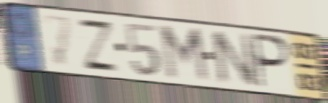5: (126, 22, 163, 79)
7: (41, 12, 74, 71)
M: (157, 23, 212, 86)
N: (209, 29, 260, 89)
P: (253, 32, 293, 92)
Z: (76, 16, 121, 75)
